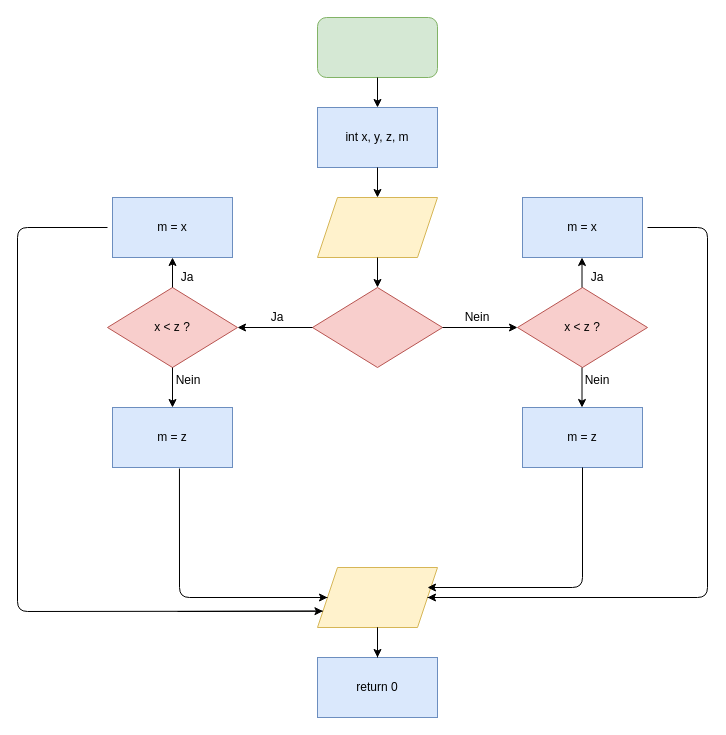
Some shapes in this 726 by 735 pixel diagram are drawn without their labels. The shapes that lost their labels are listed below. From the top down, each one's centre as x and y in pixels, then its label:
[377,47]: Start
[377,227]: Eingabe für x, y und z
[377,327]: x < y ?
[377,597]: Ausgabe m
